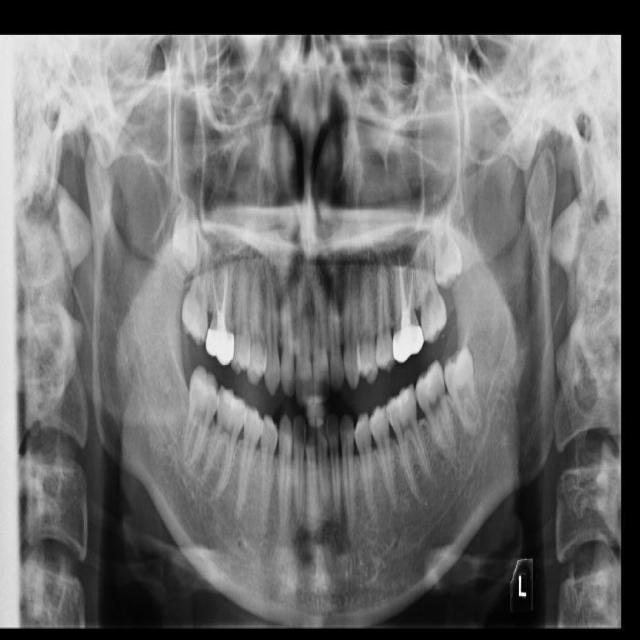3M ESPE Implant: (172, 195, 198, 273)
52: (201, 327, 238, 367), (393, 326, 424, 362)
73: (393, 248, 421, 334), (209, 261, 233, 336), (630, 604, 634, 620)
BioHorizons Implant: (410, 233, 450, 343)
BioLife Implant: (432, 199, 464, 290)
Biomet 3i Implant: (440, 344, 486, 442)
Blue Sky Bio Implant: (410, 359, 458, 460)
Caries: (180, 231, 214, 345)
Implant: (180, 365, 224, 469)
